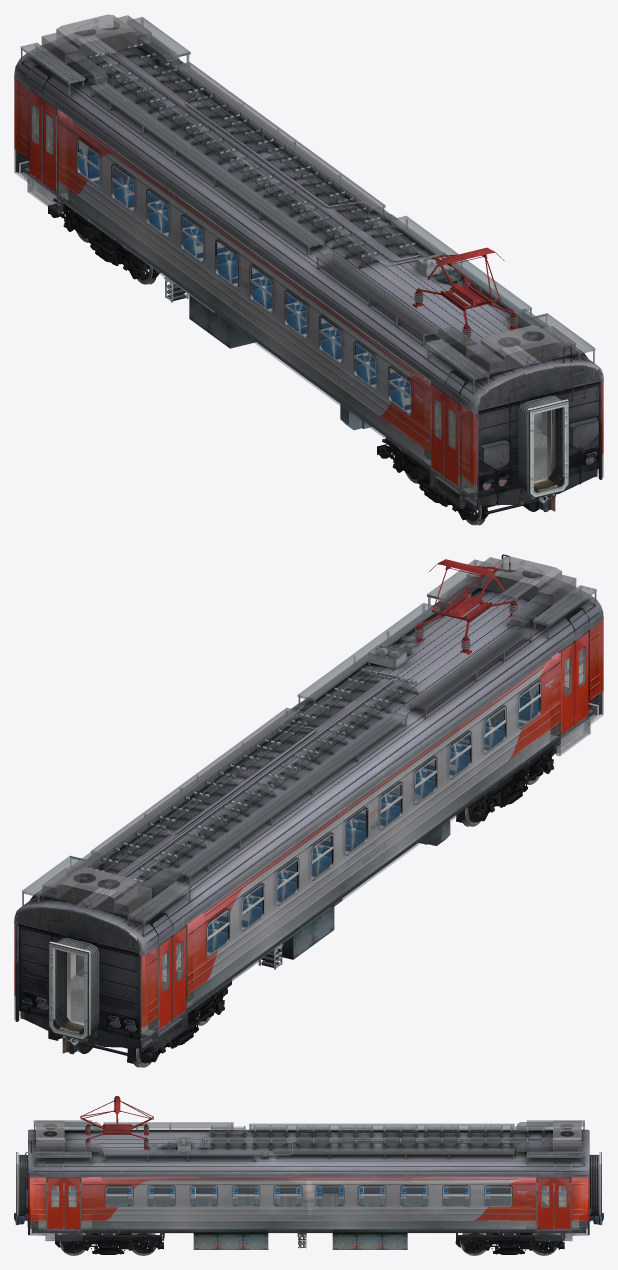
File: ed4m_exterior.glb
3 renders of one model, top to bottom at view 1: azimuth 30°, elevation 25°; view 2: azimuth 150°, elevation 25°; view 3: azimuth 270°, elevation 25°, orthographic. The views are drawn at different scales.
Visible parts, largest first — view 1: ed431m_1_1, ostekl_1, ed431m_2_0, ed431m_4_0, ed431m_door2_1, telega_1, pantogr_1, ed431m_door2_0; view 2: ed431m_1_1, ostekl_1, ed431m_2_0, ed431m_4_0, ed431m_door2_1, telega_1, pantogr_1, ed431m_door2_0; view 3: ostekl_1, ed431m_1_1, ed431m_2_0, ed431m_4_0, telega_1, ed431m_door2_1, ed431m_door2_0, pantogr_1, telega_2, telega_3, telega_0, ed431_scep_0.
Boxes of the visible parts, bbox=[...] form: ed431m_1_1: bbox=[14, 27, 603, 509]; ostekl_1: bbox=[14, 14, 603, 509]; ed431m_2_0: bbox=[25, 90, 556, 493]; ed431m_4_0: bbox=[78, 140, 541, 460]; ed431m_door2_1: bbox=[28, 87, 459, 489]; telega_1: bbox=[48, 197, 538, 520]; pantogr_1: bbox=[412, 247, 518, 342]; ed431m_door2_0: bbox=[31, 90, 460, 487]; ed431m_1_1: bbox=[14, 554, 603, 1051]; ostekl_1: bbox=[14, 556, 603, 1050]; ed431m_2_0: bbox=[61, 632, 592, 1035]; ed431m_4_0: bbox=[76, 682, 539, 1002]; ed431m_door2_1: bbox=[158, 630, 589, 1031]; telega_1: bbox=[48, 739, 560, 1063]; pantogr_1: bbox=[413, 559, 519, 654]; ed431m_door2_0: bbox=[157, 632, 586, 1029]; ostekl_1: bbox=[28, 1120, 589, 1241]; ed431m_1_1: bbox=[16, 1128, 601, 1249]; ed431m_2_0: bbox=[30, 1177, 587, 1231]; ed431m_4_0: bbox=[106, 1187, 511, 1206]; telega_1: bbox=[55, 1233, 564, 1254]; ed431m_door2_1: bbox=[46, 1178, 570, 1229]; ed431m_door2_0: bbox=[46, 1177, 571, 1228]; pantogr_1: bbox=[80, 1096, 153, 1149]; telega_2: bbox=[62, 1233, 554, 1253]; telega_3: bbox=[60, 1233, 557, 1255]; telega_0: bbox=[59, 1126, 558, 1255]; ed431_scep_0: bbox=[14, 1212, 603, 1224].
Size of the model in its own units: 3.18 by 5.5 by 20.37.
12 materials, 12 textured.
